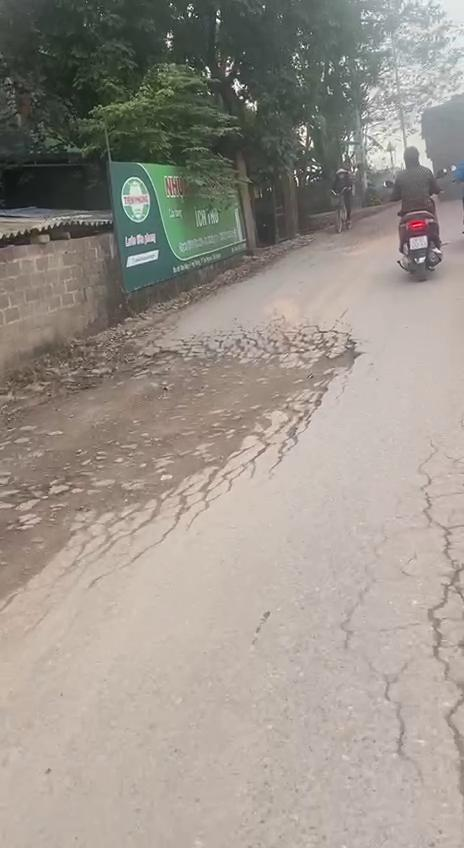pothole: (0, 322, 350, 528)
